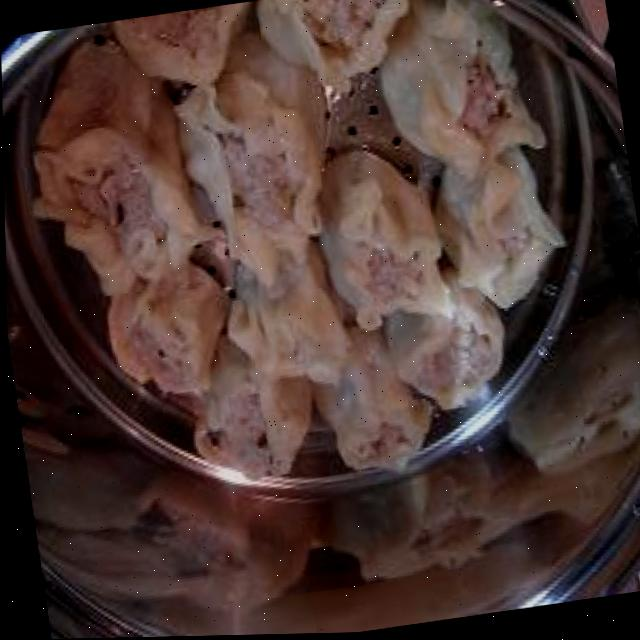带馅早点: (13, 25, 613, 517)
